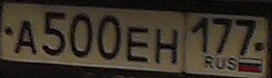character: (69, 11, 97, 60), (42, 9, 68, 61), (98, 14, 122, 62), (154, 23, 179, 68), (125, 25, 152, 65), (234, 16, 256, 60), (14, 19, 39, 57), (213, 15, 234, 59), (192, 14, 211, 55)
